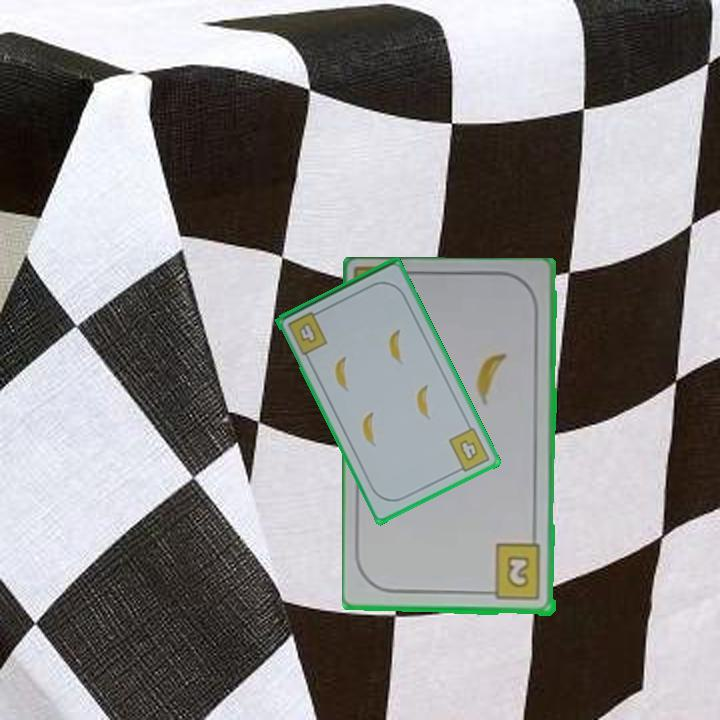2b: (482, 542, 545, 603)
4b: (445, 424, 493, 476), (284, 307, 331, 358)
